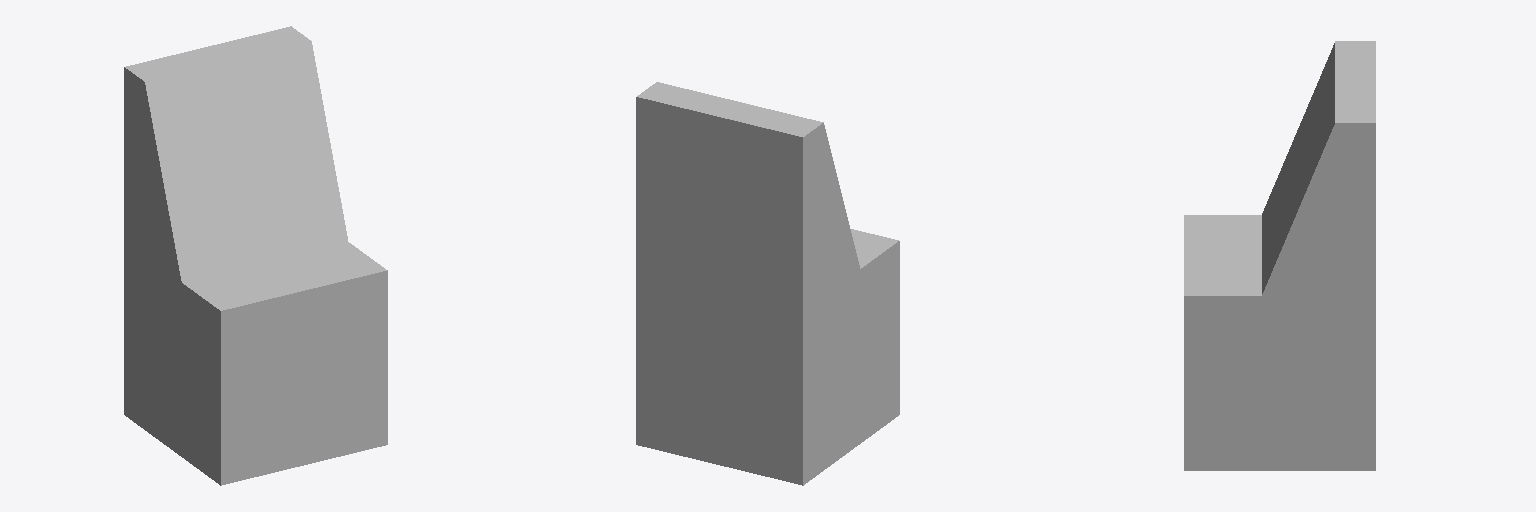
Rendered from slot_machine_red.obj.
3 views of the same model, side by side, from view 1: azimuth 30°, elevation 25°; view 2: azimuth 150°, elevation 25°; view 3: azimuth 270°, elevation 25° (orthographic).
Visible parts, largest first — view 1: Cube_Cube.001; view 2: Cube_Cube.001; view 3: Cube_Cube.001.
Part boxes in pixels (x1,y1,x2,y2): Cube_Cube.001: (124,26,387,485); Cube_Cube.001: (636,82,899,485); Cube_Cube.001: (1184,41,1375,470).
Size of the model in its own units: 2 by 3.99 by 2.